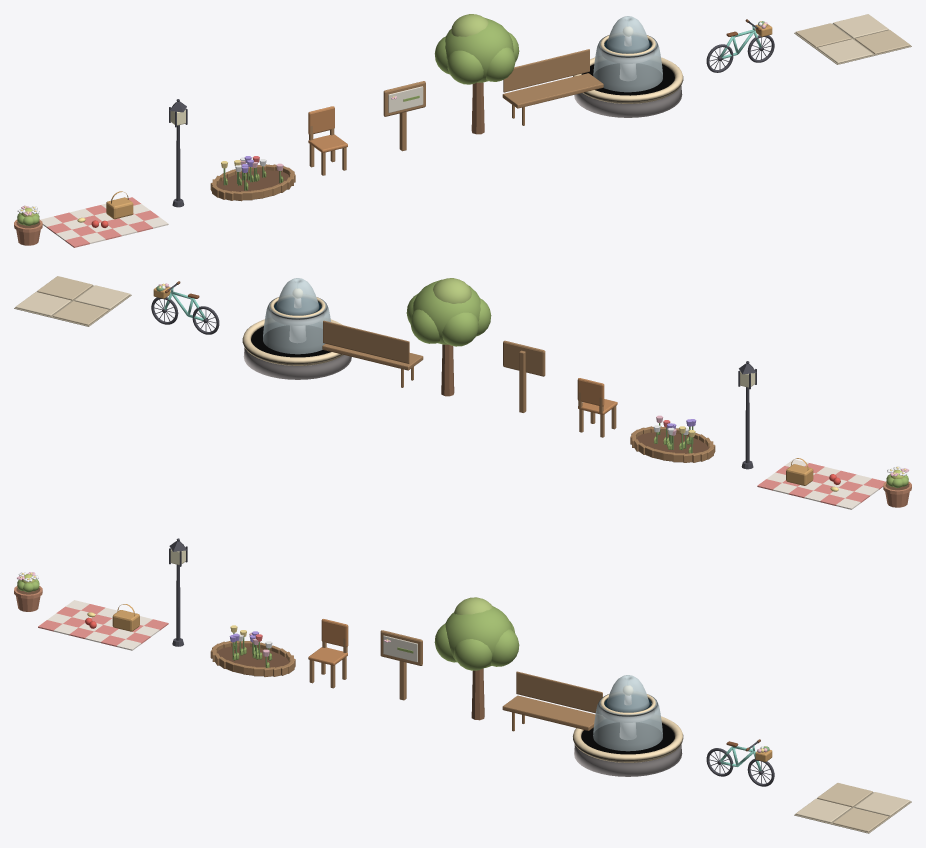
Rendered from decorations-v1.glb.
3 renders of one model, top to bottom at view 1: azimuth 30°, elevation 25°; view 2: azimuth 150°, elevation 25°; view 3: azimuth 330°, elevation 25°, orthographic.
Parts seen in each view (by area): view 1: Deco fountain, Deco plant, Deco bench, Deco picnic_mat, Deco floor_tile, Deco flower_bed, Deco chair, Deco sign, Deco bicycle, Deco flower_pot, Deco small_lamp; view 2: Deco fountain, Deco plant, Deco picnic_mat, Deco floor_tile, Deco bench, Deco flower_bed, Deco sign, Deco bicycle, Deco chair, Deco flower_pot, Deco small_lamp; view 3: Deco fountain, Deco plant, Deco bench, Deco picnic_mat, Deco floor_tile, Deco flower_bed, Deco chair, Deco sign, Deco bicycle, Deco flower_pot, Deco small_lamp.
Boxes of the visible parts, x1,y1,x2,y2 form: Deco fountain: [573, 16, 683, 117]; Deco plant: [434, 14, 519, 134]; Deco bench: [502, 49, 603, 125]; Deco picnic_mat: [40, 191, 168, 247]; Deco floor_tile: [794, 14, 911, 64]; Deco flower_bed: [210, 156, 295, 201]; Deco chair: [308, 106, 347, 175]; Deco sign: [383, 81, 425, 151]; Deco bicycle: [706, 19, 774, 72]; Deco flower_pot: [14, 205, 42, 245]; Deco small_lamp: [169, 99, 187, 207]; Deco fountain: [242, 278, 351, 379]; Deco plant: [406, 278, 491, 396]; Deco picnic_mat: [757, 458, 885, 509]; Deco floor_tile: [14, 276, 131, 326]; Deco bench: [322, 320, 423, 387]; Deco flower_bed: [630, 415, 715, 462]; Deco sign: [503, 340, 545, 412]; Deco bicycle: [151, 281, 219, 334]; Deco chair: [577, 378, 617, 437]; Deco flower_pot: [883, 466, 911, 507]; Deco small_lamp: [738, 361, 756, 469]; Deco fountain: [573, 675, 683, 776]; Deco plant: [434, 597, 519, 720]; Deco bench: [502, 671, 602, 731]; Deco picnic_mat: [38, 600, 168, 650]; Deco floor_tile: [794, 783, 911, 833]; Deco flower_bed: [210, 625, 295, 676]; Deco chair: [308, 619, 348, 688]; Deco sign: [380, 630, 422, 700]; Deco bicycle: [706, 739, 774, 786]; Deco flower_pot: [14, 572, 42, 611]; Deco small_lamp: [169, 538, 187, 646].
Bounding box in the file's own units: 23.33 × 2.95 × 2.56.
